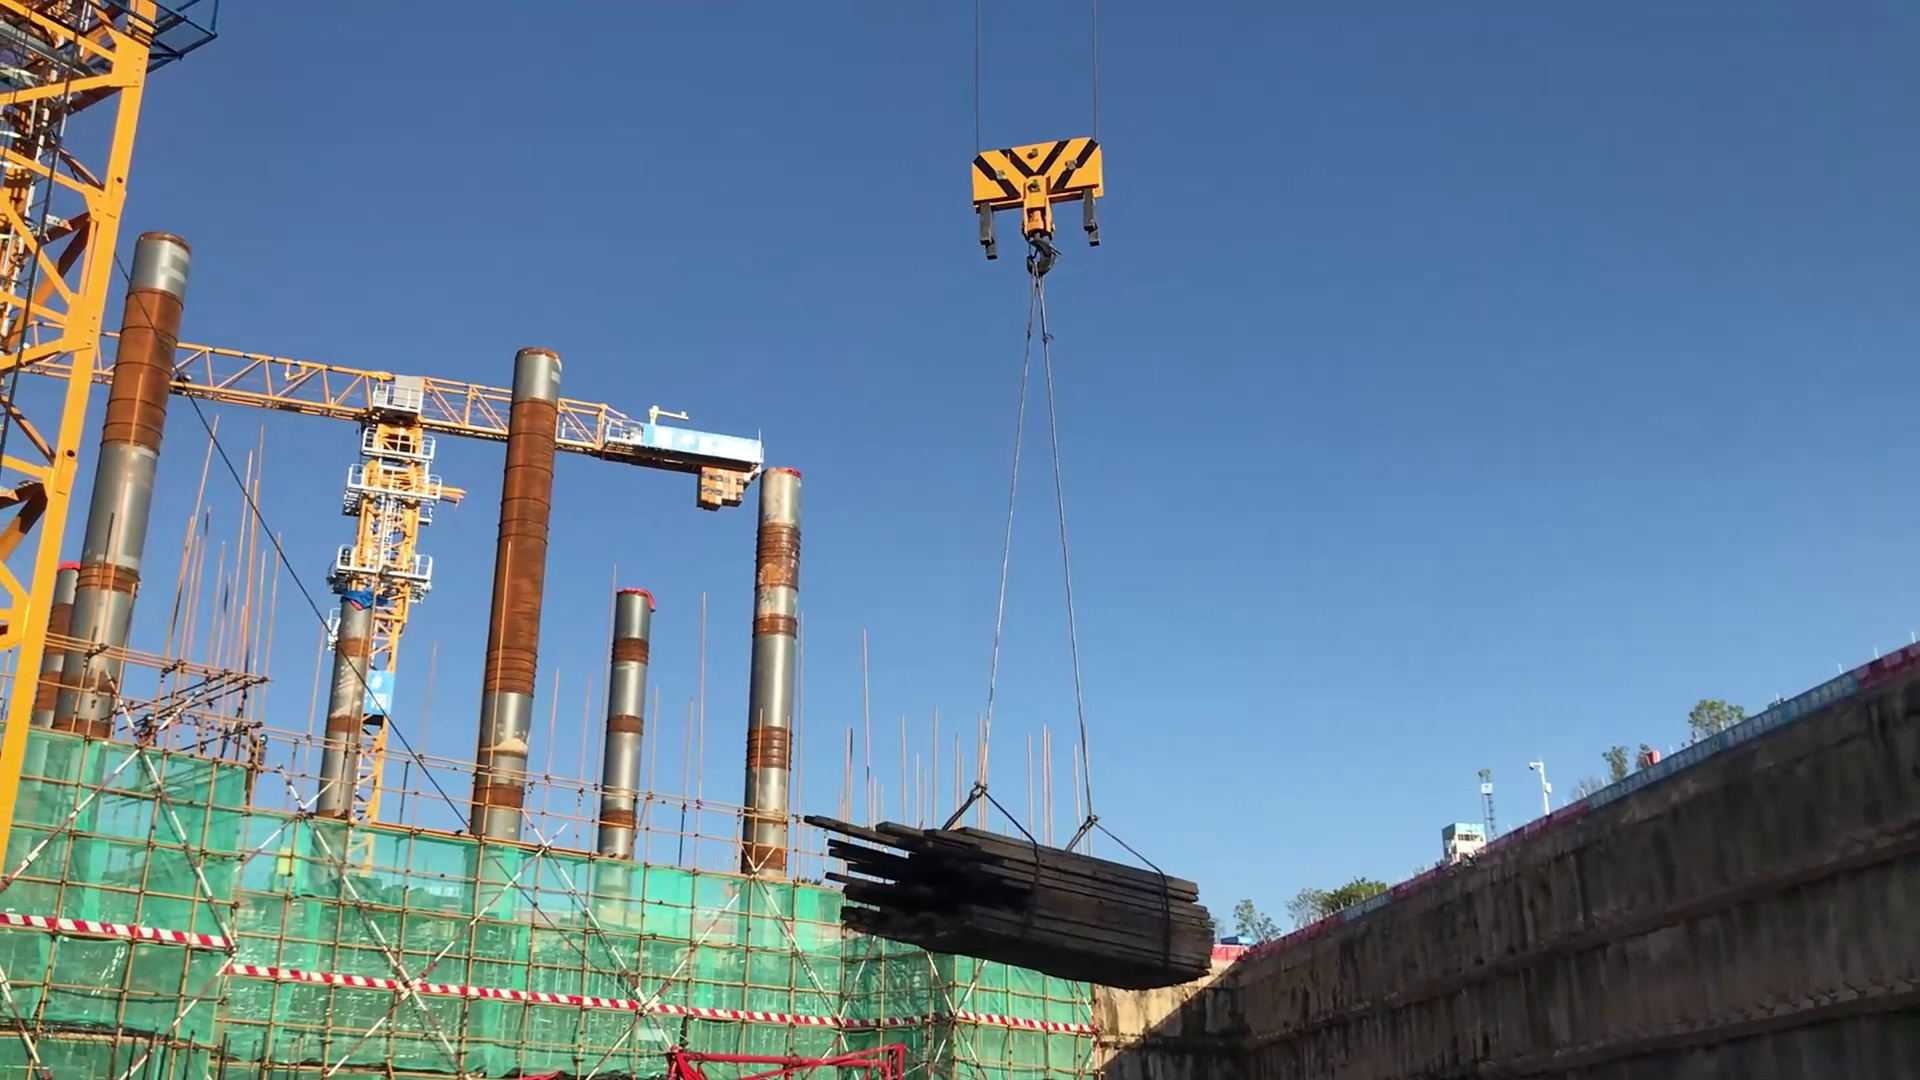hook: (953, 120, 1108, 280)
wood: (791, 804, 1229, 992)
